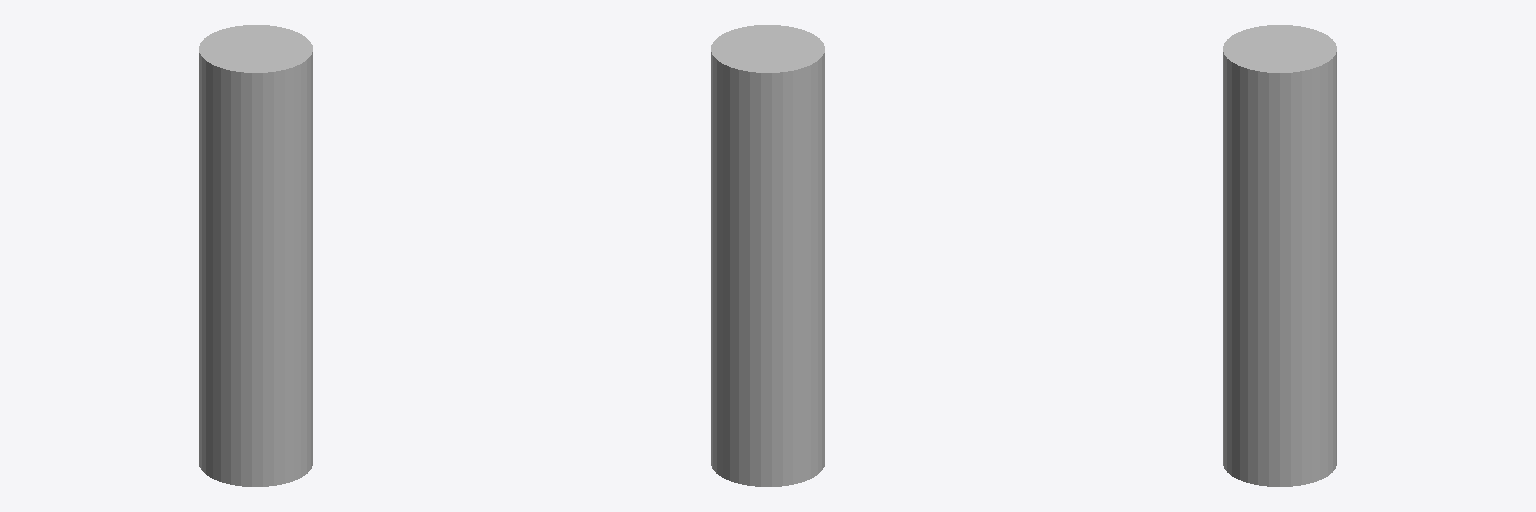
File: Cylindre_1.obj
3 renders of one model, left to right at view 1: azimuth 30°, elevation 25°; view 2: azimuth 150°, elevation 25°; view 3: azimuth 270°, elevation 25°, orthographic.
Visible parts, largest first — view 1: Cylinder; view 2: Cylinder; view 3: Cylinder.
Part boxes in pixels (bbox=[...]): Cylinder: bbox=[199, 25, 312, 486]; Cylinder: bbox=[711, 25, 824, 486]; Cylinder: bbox=[1223, 25, 1336, 486].
Bounding box in the file's own units: 4.01 × 16 × 4.01.